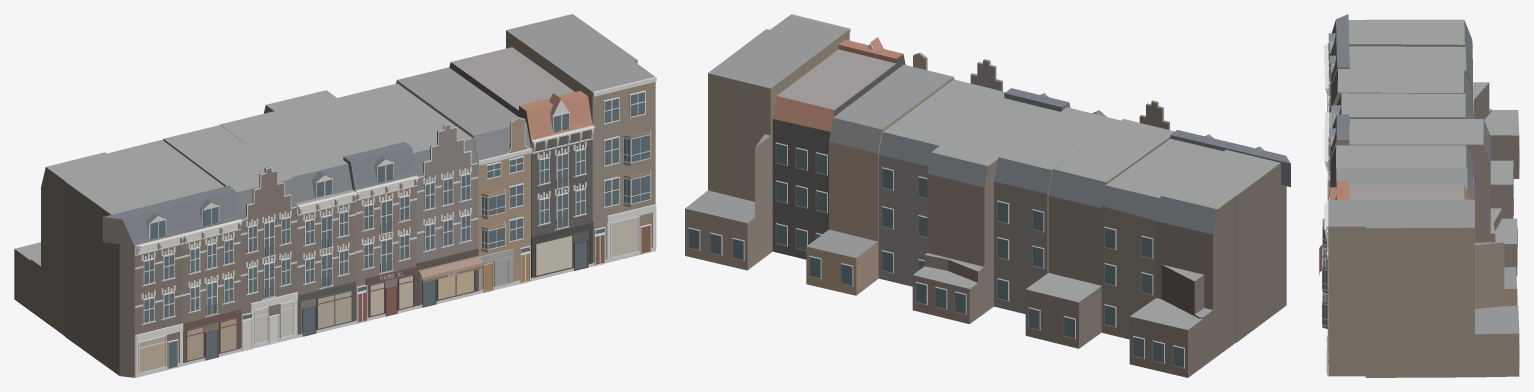
The model's file is chunk-face-schuyt-17-33.glb.
The picture shows the model from 3 angles, left to right: view 1: azimuth 30°, elevation 25°; view 2: azimuth 150°, elevation 25°; view 3: azimuth 270°, elevation 25°; orthographic projection. The views are drawn at different scales.
Visible parts, largest first — view 1: face-schuyt-17-33; view 2: face-schuyt-17-33; view 3: face-schuyt-17-33.
Part boxes in pixels (left/top/right/bottom): face-schuyt-17-33: left=14, top=14, right=656, bottom=377; face-schuyt-17-33: left=685, top=14, right=1290, bottom=377; face-schuyt-17-33: left=1319, top=14, right=1519, bottom=377.
Size of the model in its own units: 51.16 by 15.88 by 18.95.
